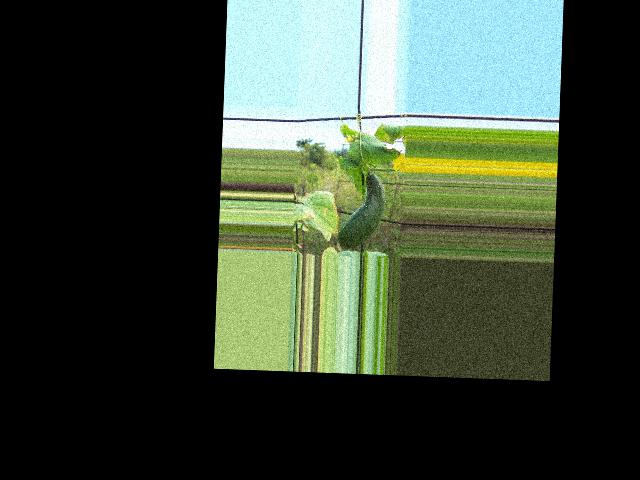cucumber: (336, 171, 386, 250)
